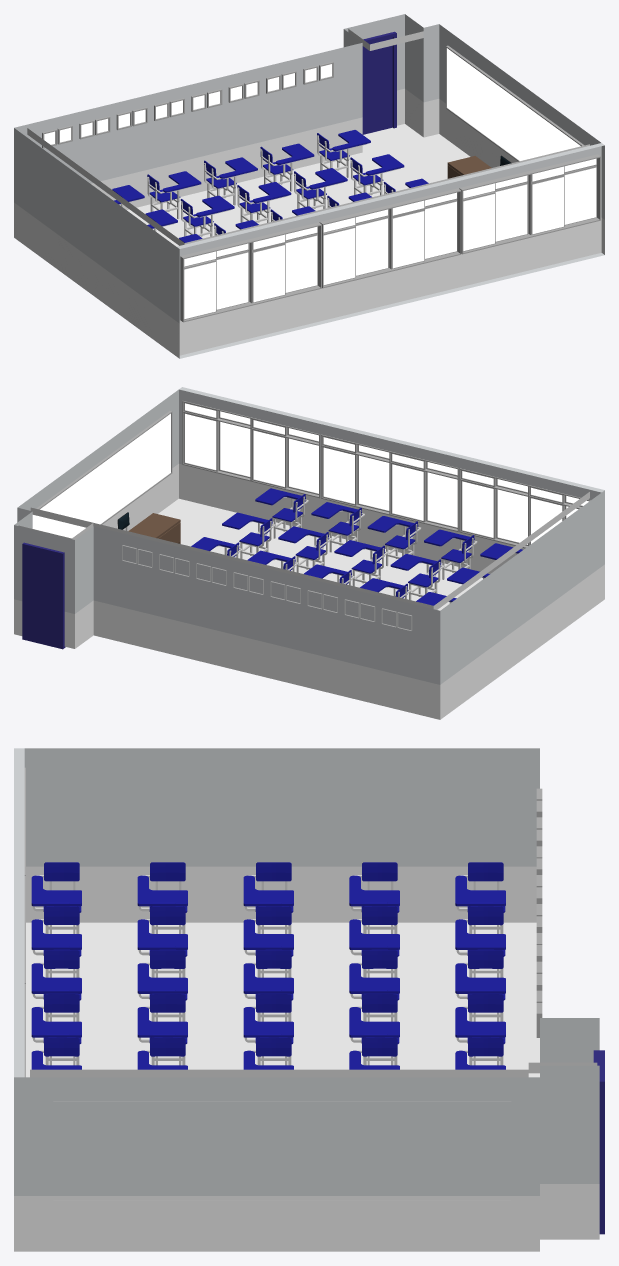
The model's file is model_auditorio_a.glb.
3 renders of one model, top to bottom at view 1: azimuth 30°, elevation 25°; view 2: azimuth 150°, elevation 25°; view 3: azimuth 270°, elevation 25°, orthographic. The views are drawn at different scales.
Visible parts, largest first — view 1: Chao, Janelas, Encosto da Cadeira.001, Quadro, Moldura Janela, Plane, Porta, Teto, Carteira Prof; view 2: Chao, Janelas, Encosto da Cadeira.001, Quadro, Porta, Teto, Moldura Janela, Plane, Carteira Prof; view 3: Chao, Encosto da Cadeira.001, Teto, Plane, Porta, Quadro.
Part boxes in pixels (left/top/right/bottom): Chao: left=14, top=14, right=604, bottom=358; Janelas: left=184, top=158, right=596, bottom=319; Encosto da Cadeira.001: left=112, top=130, right=428, bottom=242; Quadro: left=446, top=45, right=584, bottom=161; Moldura Janela: left=180, top=154, right=600, bottom=322; Plane: left=42, top=61, right=333, bottom=148; Porta: left=362, top=31, right=396, bottom=134; Teto: left=27, top=29, right=589, bottom=245; Carteira Prof: left=447, top=156, right=491, bottom=178; Chao: left=14, top=387, right=604, bottom=719; Janelas: left=183, top=402, right=589, bottom=545; Encosto da Cadeira.001: left=191, top=488, right=522, bottom=605; Quadro: left=32, top=411, right=172, bottom=538; Porta: left=22, top=542, right=65, bottom=649; Teto: left=18, top=492, right=589, bottom=609; Moldura Janela: left=182, top=401, right=590, bottom=548; Plane: left=122, top=545, right=412, bottom=630; Carteira Prof: left=128, top=513, right=180, bottom=543; Chao: left=14, top=748, right=599, bottom=1251; Encosto da Cadeira.001: left=31, top=862, right=505, bottom=1069; Teto: left=30, top=1062, right=597, bottom=1077; Plane: left=536, top=788, right=542, bottom=1037; Porta: left=593, top=1050, right=604, bottom=1234; Quadro: left=53, top=1101, right=510, bottom=1200.
Bounding box in the file's own units: 26.78 × 6.7 × 20.3.
